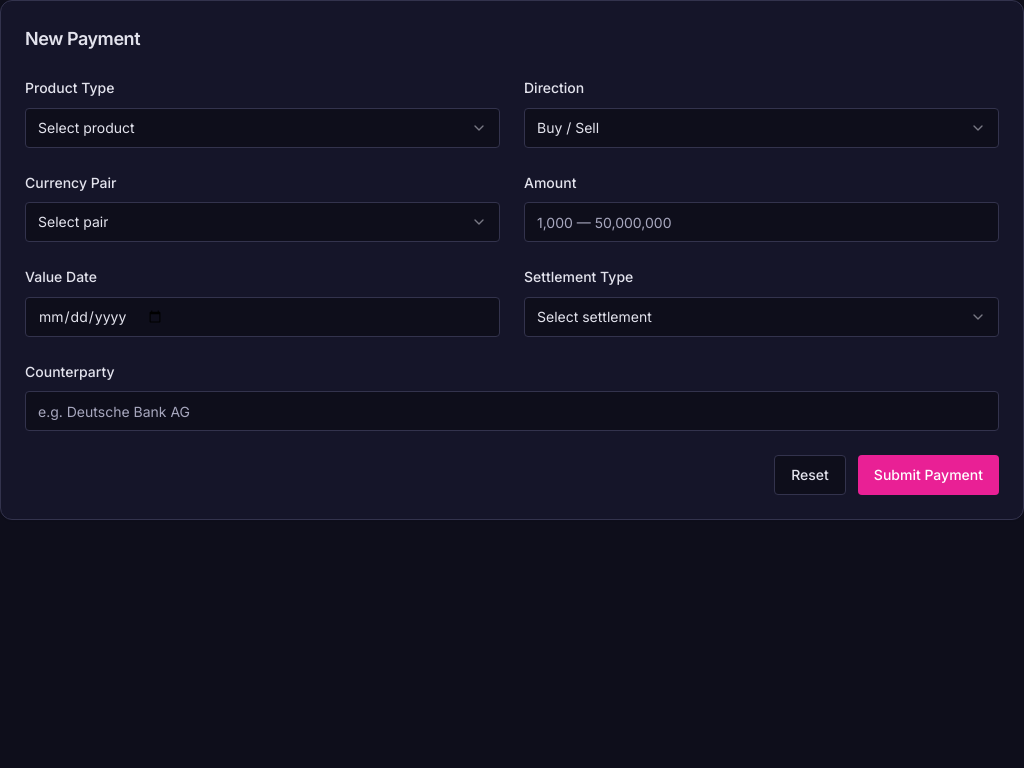
Test: PaymentForm › shows amount validation error for too-low amount
The width and height of the screenshot is (1024, 768).
Type "500" into the number field labelled "Amount". click: (762, 222)
box: [524,202,999,242]
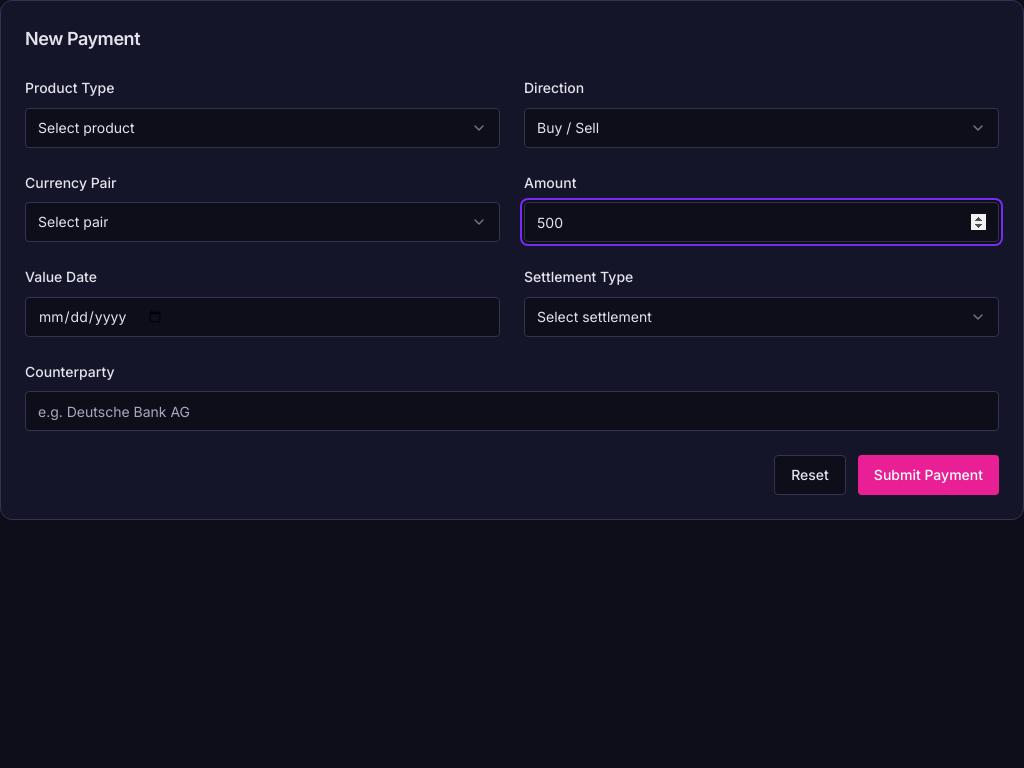
Click the button "Submit Payment". click: (928, 475)
box: [858,455,999,495]
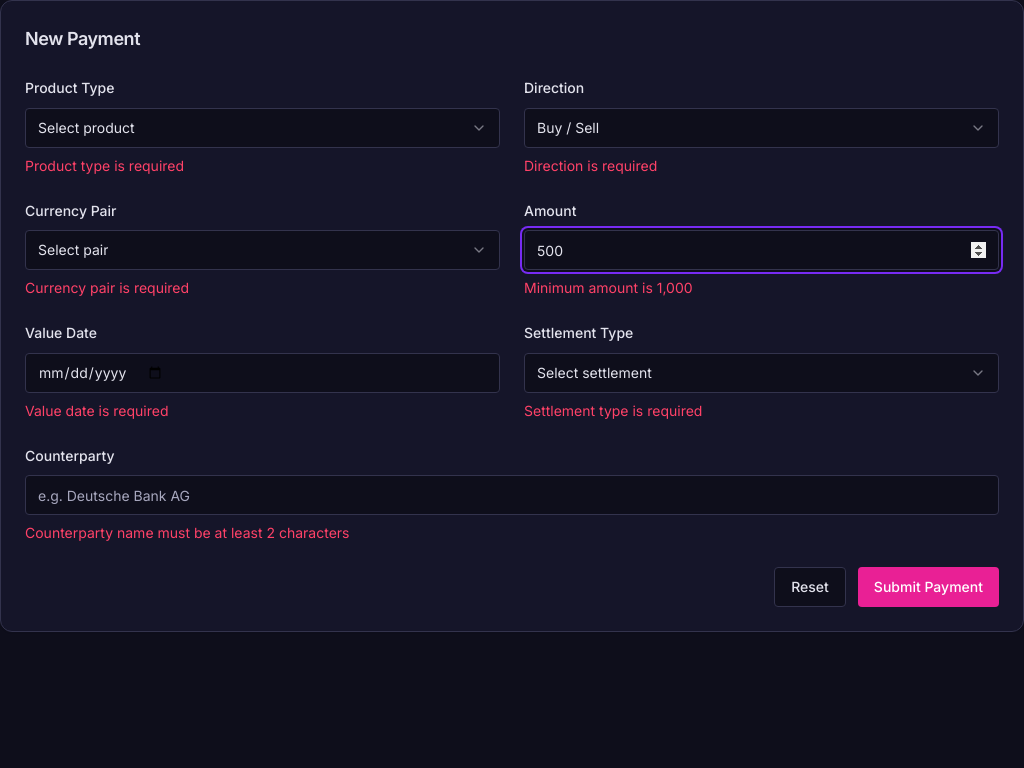
Result: the text "Minimum amount is 1,000" is shown at [524,279,693,296]
